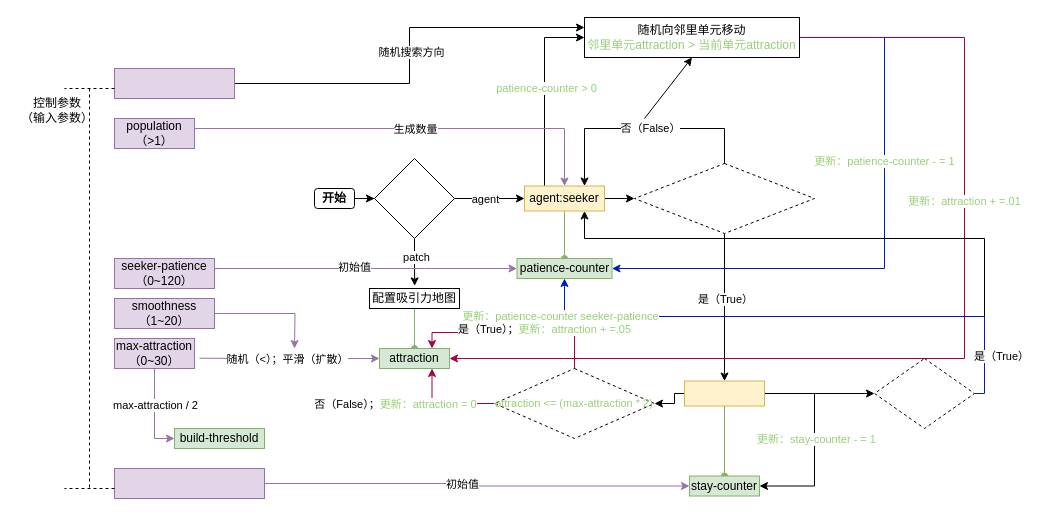
This 1046x516 diagram has some shape labels left out. Here are the shapes that lost their labels. From the top down, the centre of each, then its label:
the point at 174,83: seeker-search-angle （1~360）
the point at 414,198: agent 或 patch
the point at 724,198: attraction >= build-threshold 或 patience-counter = 0 [want-to-build?]
the point at 724,393: agent:house
the point at 924,393: stay-counter <= 0
the point at 189,483: wait-between-seeking （5~60）
